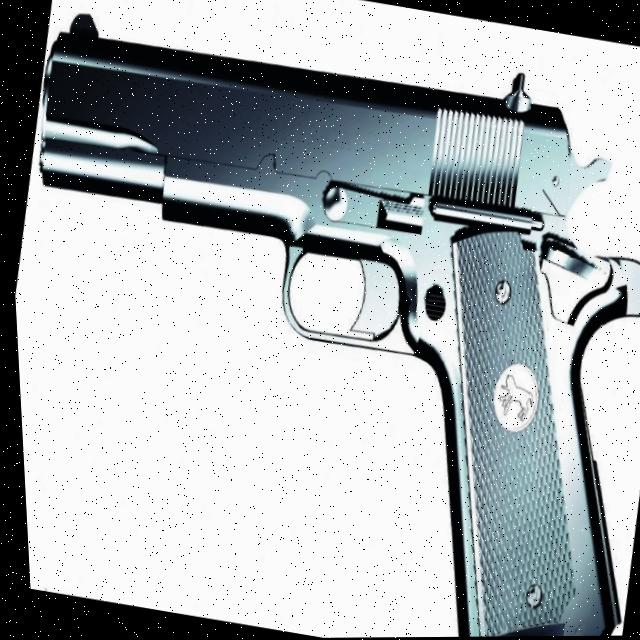pistol: (0, 2, 640, 640)
